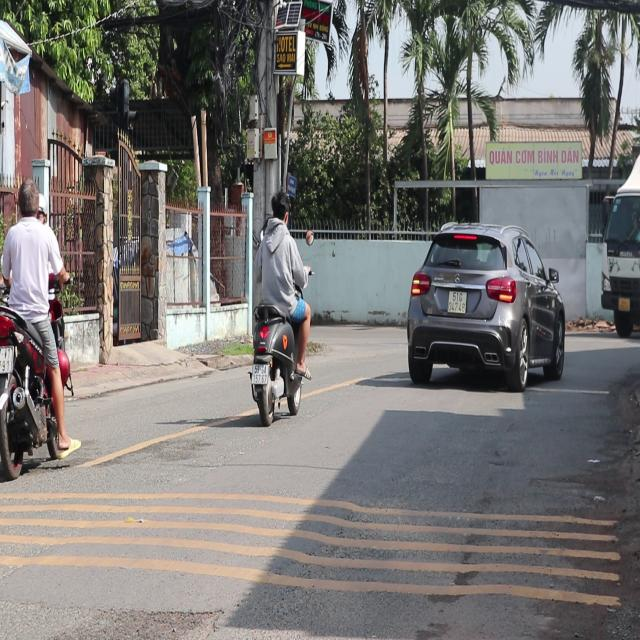licenseplate: (0, 174, 75, 475), (247, 182, 313, 424)
motorcyclist: (15, 177, 40, 219), (268, 188, 290, 226)
nohelmet: (0, 344, 13, 371), (252, 364, 268, 384)
